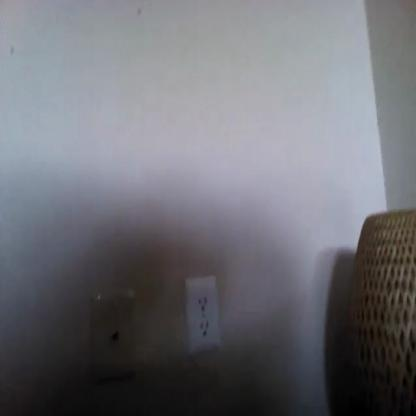OUTLET: (186, 276, 219, 352)
